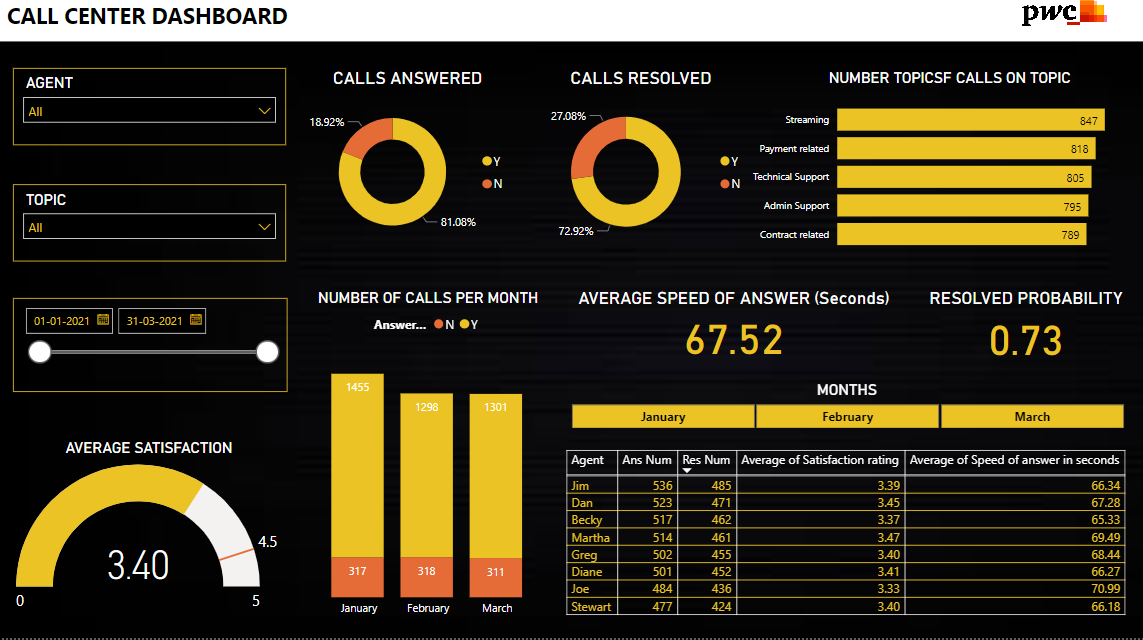

The page's visual inventory and layout, read from the dashboard file:
{"tool":"powerbi","page":{"name":"Page 1","canvas":[1280,720],"ordinal":0},"visuals":[{"type":"donutChart","title":"CALLS ANSWERED","fields":{"Category":["Sheet1.Answered (Y/N)"],"Y":["Sum(Sheet1.Ans Num)"]},"box":[336.7,93.3,238.3,206.7],"z":0},{"type":"donutChart","title":"CALLS RESOLVED","fields":{"Category":["Sheet1.Resolved"],"Y":["Sum(Sheet1.Res Num)"]},"box":[588.3,93.3,248.3,206.7],"z":1000},{"type":"slicer","fields":{"Values":["Sheet1.Agent"]},"box":[21.7,93.3,300,85],"z":2000},{"type":"slicer","fields":{"Values":["Sheet1.Topic"]},"box":[21.7,221.7,300,85],"z":3000},{"type":"slicer","fields":{"Values":["Sheet1.Date"]},"box":[21.7,346.7,301.7,103.3],"z":4000},{"type":"gauge","title":"AVERAGE SATISFACTION","fields":{"Y":["Avg(Sheet1.Satisfaction rating)"]},"box":[20,500,301.7,205],"z":5000},{"type":"columnChart","title":"NUMBER OF CALLS PER MONTH","fields":{"Category":["Sheet1.Date.Variation.Date Hierarchy.Month"],"Y":["CountNonNull(Sheet1.Ans Num)"],"Series":["Sheet1.Answered (Y/N)"]},"box":[336.7,335,283.3,370],"z":6000},{"type":"card","title":"AVERAGE SPEED OF ANSWER (Seconds)","fields":{"Values":["Avg(Sheet1.Speed of answer in seconds)"]},"box":[636.7,335,353.3,80],"z":7000},{"type":"card","title":"RESOLVED PROBABILITY ","fields":{"Values":["Avg(Sheet1.Res Num)"]},"box":[990,335,290,81.7],"z":8000},{"type":"image","box":[1101.7,0,151.7,63.3],"z":9000},{"type":"tableEx","fields":{"Values":["Sheet1.Agent","Sum(Sheet1.Ans Num)","Sum(Sheet1.Res Num)","Avg(Sheet1.Satisfaction rating)","Avg(Sheet1.Speed of answer in seconds)"]},"box":[623.3,508.3,630,211.7],"z":10000},{"type":"slicer","title":"MONTHS","fields":{"Values":["Sheet1.Date.Variation.Date Hierarchy.Month"]},"box":[610,436.7,656.7,51.7],"z":11000},{"type":"textbox","box":[0,0,1280,63.3],"z":12000},{"type":"barChart","title":"NUMBER TOPICSF CALLS ON TOPIC","fields":{"Series":["Sheet1.Answered (Y/N)"],"Category":["Sheet1.Topic"],"Y":["Sum(Sheet1.Ans Num)"]},"box":[823.3,93.3,456.7,213.3],"z":13000}]}

Visuals, with their boxes in screenshot pixels (x1, y1, x2, y2), scaled from the page's 1280x720 canvas onto the 1143x640 screenshot:
"CALLS ANSWERED" donutChart: bbox=[301, 83, 513, 267]
"CALLS RESOLVED" donutChart: bbox=[525, 83, 747, 267]
slicer - Sheet1.Agent: bbox=[19, 83, 287, 158]
slicer - Sheet1.Topic: bbox=[19, 197, 287, 273]
slicer - Sheet1.Date: bbox=[19, 308, 289, 400]
"AVERAGE SATISFACTION" gauge: bbox=[18, 444, 287, 627]
"NUMBER OF CALLS PER MONTH" columnChart: bbox=[301, 298, 554, 627]
"AVERAGE SPEED OF ANSWER (Seconds)" card: bbox=[569, 298, 884, 369]
"RESOLVED PROBABILITY " card: bbox=[884, 298, 1142, 370]
image: bbox=[984, 0, 1119, 56]
tableEx - Sheet1.Agent x Sum(Sheet1.Ans Num): bbox=[557, 452, 1119, 639]
"MONTHS" slicer: bbox=[545, 388, 1131, 434]
textbox: bbox=[0, 0, 1142, 56]
"NUMBER TOPICSF CALLS ON TOPIC" barChart: bbox=[735, 83, 1142, 273]
